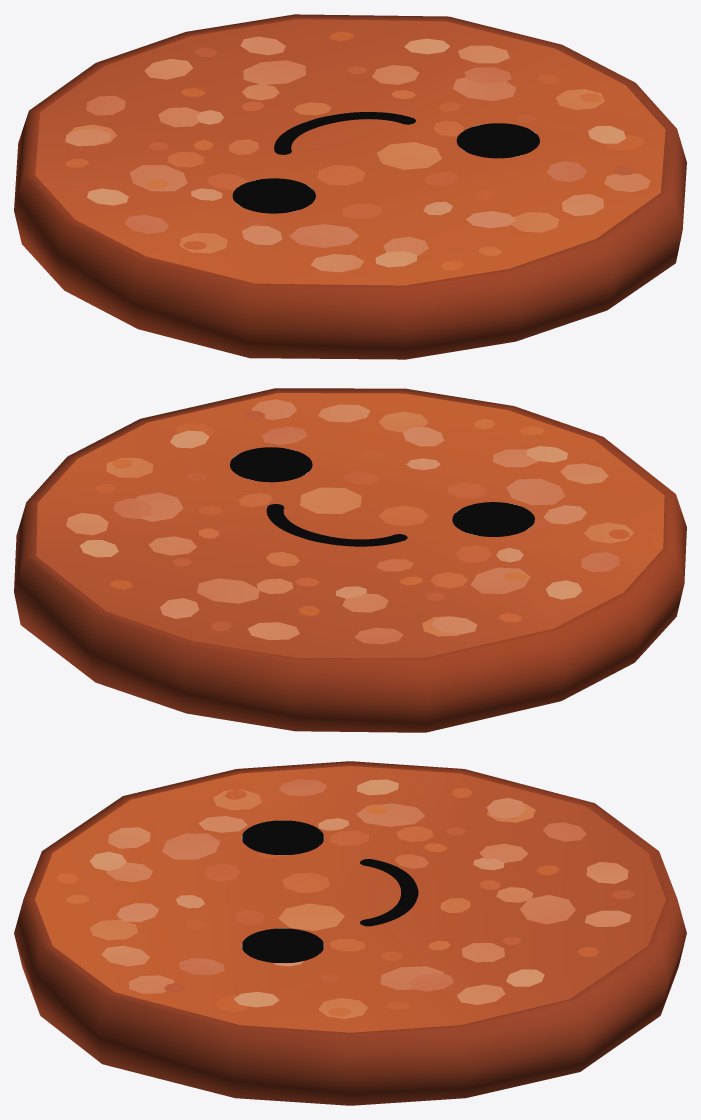
Rendered from peperoni_slice_smile.fbx.
The picture shows the model from 3 angles, top to bottom: view 1: azimuth 30°, elevation 25°; view 2: azimuth 150°, elevation 25°; view 3: azimuth 270°, elevation 25°; orthographic projection.
Parts seen in each view (by area): view 1: peperoni_slice_smile; view 2: peperoni_slice_smile; view 3: peperoni_slice_smile.
Boxes of the visible parts, x1=… form: peperoni_slice_smile: x1=14, y1=14, x2=686, y2=359; peperoni_slice_smile: x1=14, y1=388, x2=686, y2=732; peperoni_slice_smile: x1=14, y1=761, x2=686, y2=1105.
Bounding box in the file's own units: 16.48 × 16.48 × 2.06.
2 materials, 2 textured.
